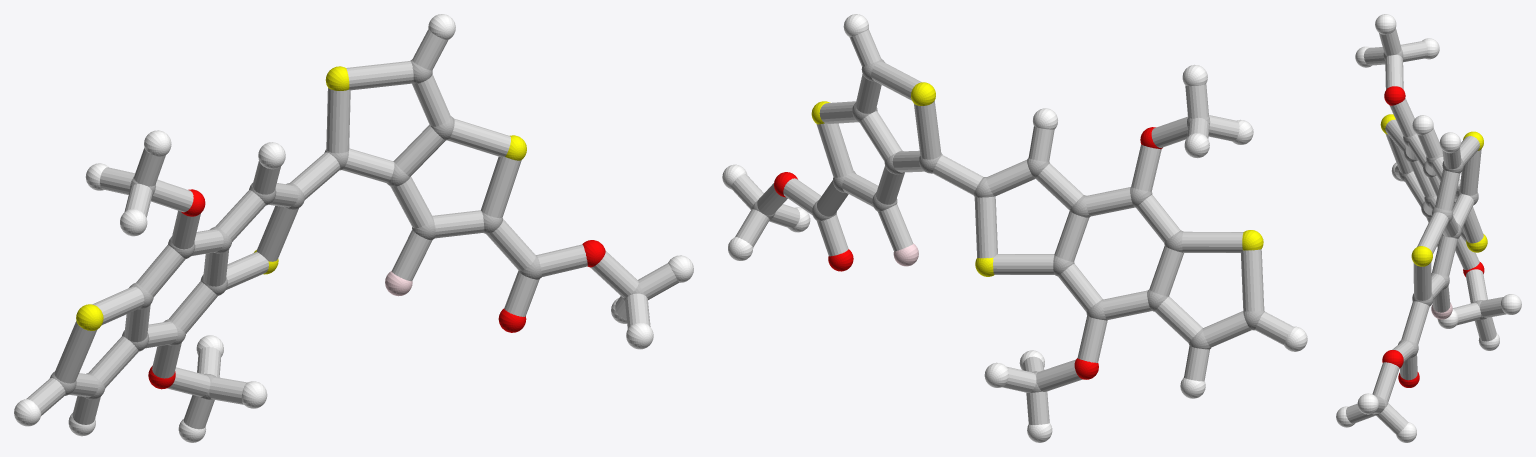
File: color.glb
The picture shows the model from 3 angles, left to right: view 1: azimuth 30°, elevation 25°; view 2: azimuth 150°, elevation 25°; view 3: azimuth 270°, elevation 25°; orthographic projection. The views are drawn at different scales.
Visible parts, largest first — view 1: grp15205, grp8689, grp1, grp7241, grp13395; view 2: grp15205, grp8689, grp1, grp7241, grp13395; view 3: grp15205, grp8689, grp1, grp13395, grp7241.
Part boxes in pixels (left/top/right/bottom): grp15205: left=26, top=29, right=678, bottom=429; grp8689: left=14, top=14, right=693, bottom=442; grp1: left=49, top=59, right=645, bottom=399; grp7241: left=76, top=66, right=526, bottom=330; grp13395: left=148, top=189, right=605, bottom=389; grp15205: left=731, top=29, right=1293, bottom=424; grp8689: left=722, top=14, right=1307, bottom=442; grp1: left=751, top=59, right=1264, bottom=392; grp7241: left=811, top=82, right=1263, bottom=276; grp13395: left=774, top=127, right=1162, bottom=379; grp15205: left=1346, top=28, right=1506, bottom=434; grp8689: left=1336, top=14, right=1521, bottom=442; grp1: left=1372, top=48, right=1486, bottom=415; grp13395: left=1382, top=86, right=1484, bottom=387; grp7241: left=1380, top=114, right=1487, bottom=266.
Bounding box in the file's own units: 16.41 × 9.35 × 5.22.
